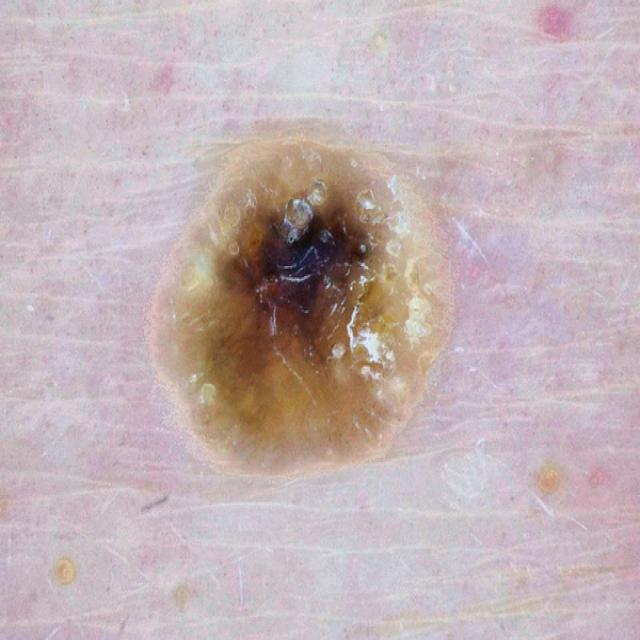Benign-Keratosis-like-Lesions-BKL-: (150, 123, 454, 475)
